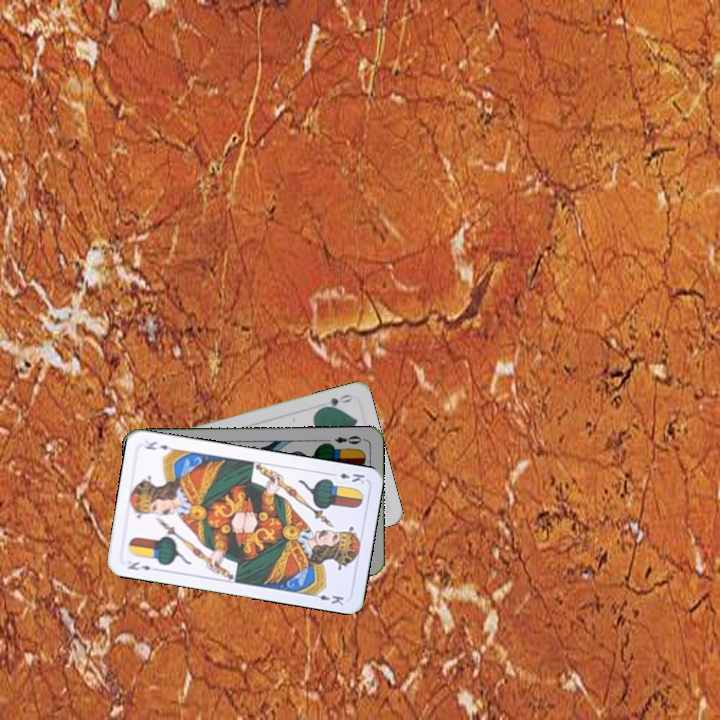EK: (327, 469, 367, 486), (123, 558, 153, 573)
EO: (331, 432, 367, 446)
GO: (317, 390, 356, 412)
